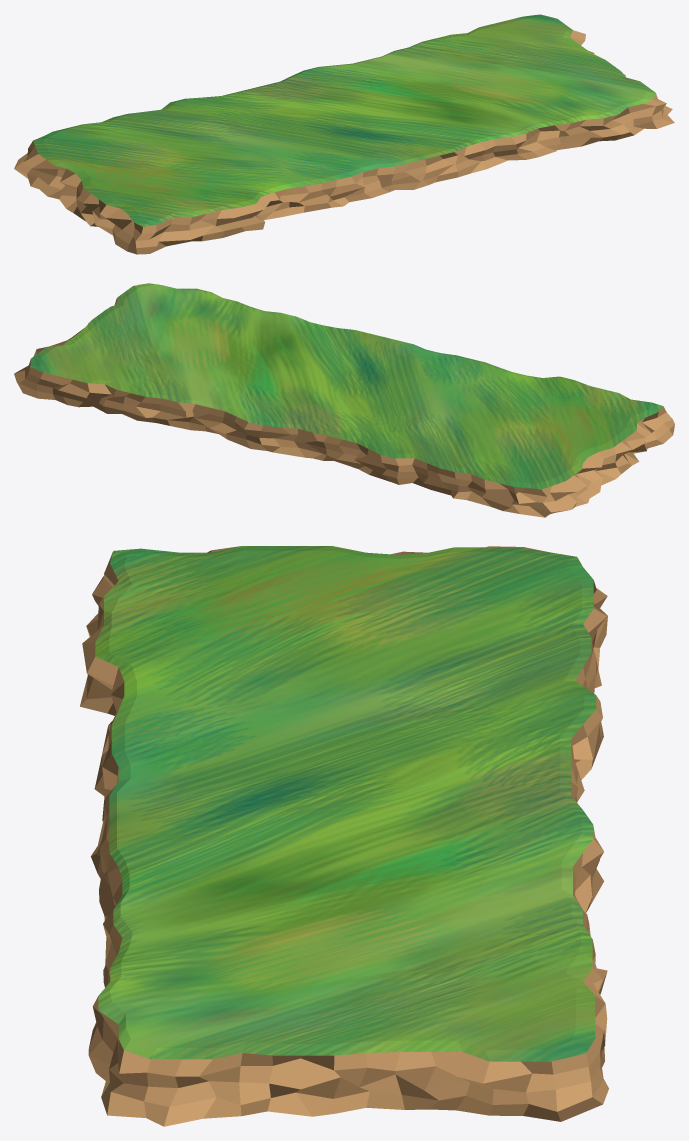
The model's file is Tebing bawah tengah.fbx.
The picture shows the model from 3 angles, top to bottom: view 1: azimuth 30°, elevation 25°; view 2: azimuth 150°, elevation 25°; view 3: azimuth 270°, elevation 25°; orthographic projection. The views are drawn at different scales.
Visible parts, largest first — view 1: Tebing Bawah 2; view 2: Tebing Bawah 2; view 3: Tebing Bawah 2.
Boxes of the visible parts, x1,y1,x2,y2 form: Tebing Bawah 2: (14, 14, 674, 254); Tebing Bawah 2: (14, 283, 674, 517); Tebing Bawah 2: (80, 546, 608, 1126).
Size of the model in its own units: 5303 by 239 by 2171.
